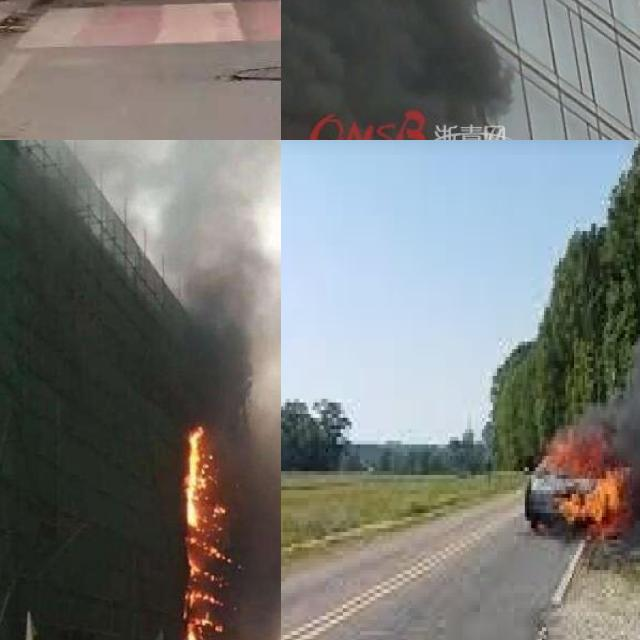fire: (529, 418, 640, 540), (186, 418, 231, 640)
smoke: (156, 140, 281, 640), (281, 0, 511, 140)
